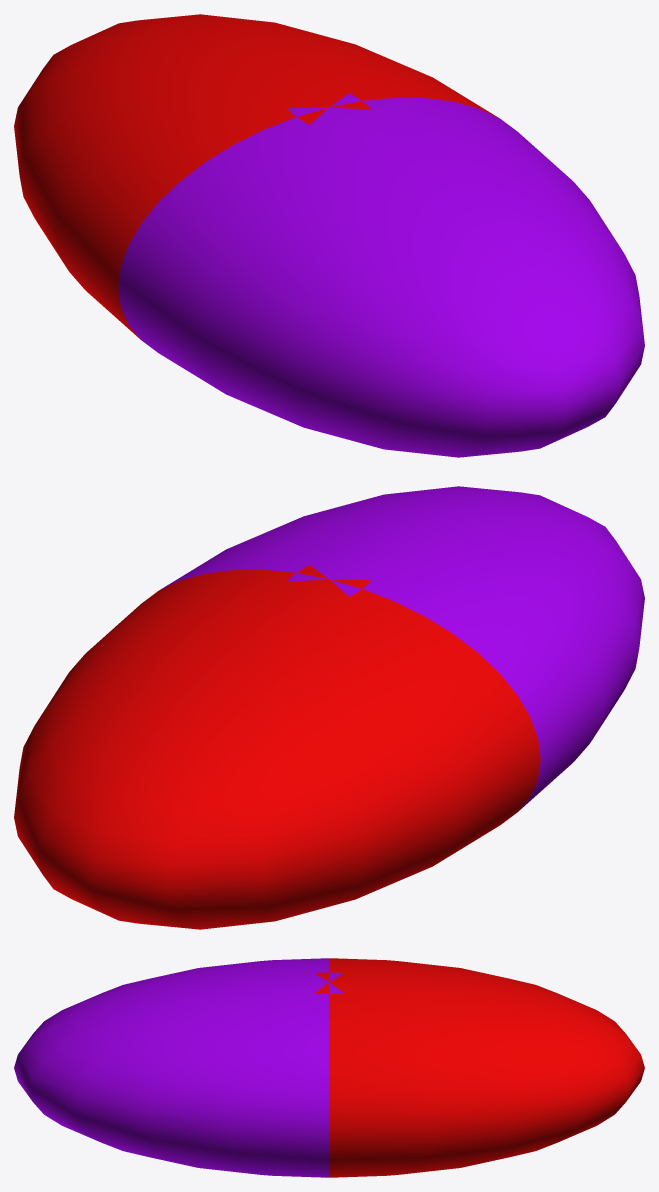
The model's file is pill.fbx.
3 renders of one model, top to bottom at view 1: azimuth 30°, elevation 25°; view 2: azimuth 150°, elevation 25°; view 3: azimuth 270°, elevation 25°, orthographic. The views are drawn at different scales.
Visible parts, largest first — view 1: pSphere1; view 2: pSphere1; view 3: pSphere1.
Boxes of the visible parts, x1,y1,x2,y2 form: pSphere1: [14, 14, 644, 457]; pSphere1: [14, 486, 644, 929]; pSphere1: [14, 958, 644, 1177].
Size of the model in its own units: 0.258 by 0.1501 by 0.5003.
